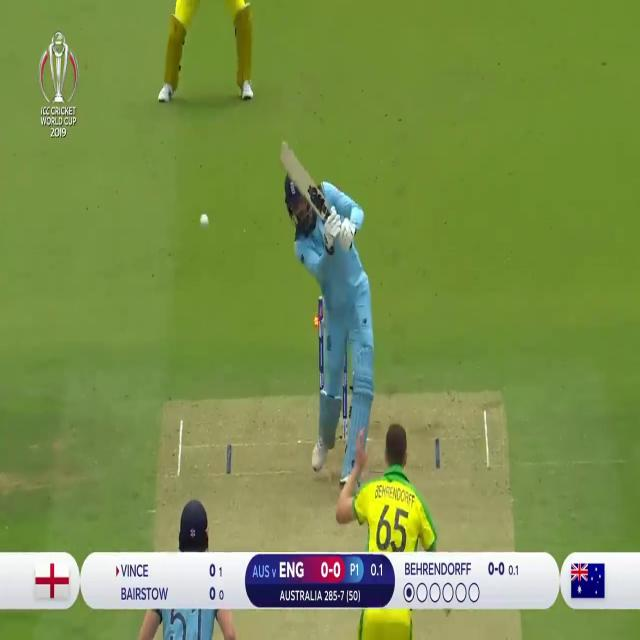ball: (194, 202, 216, 235)
